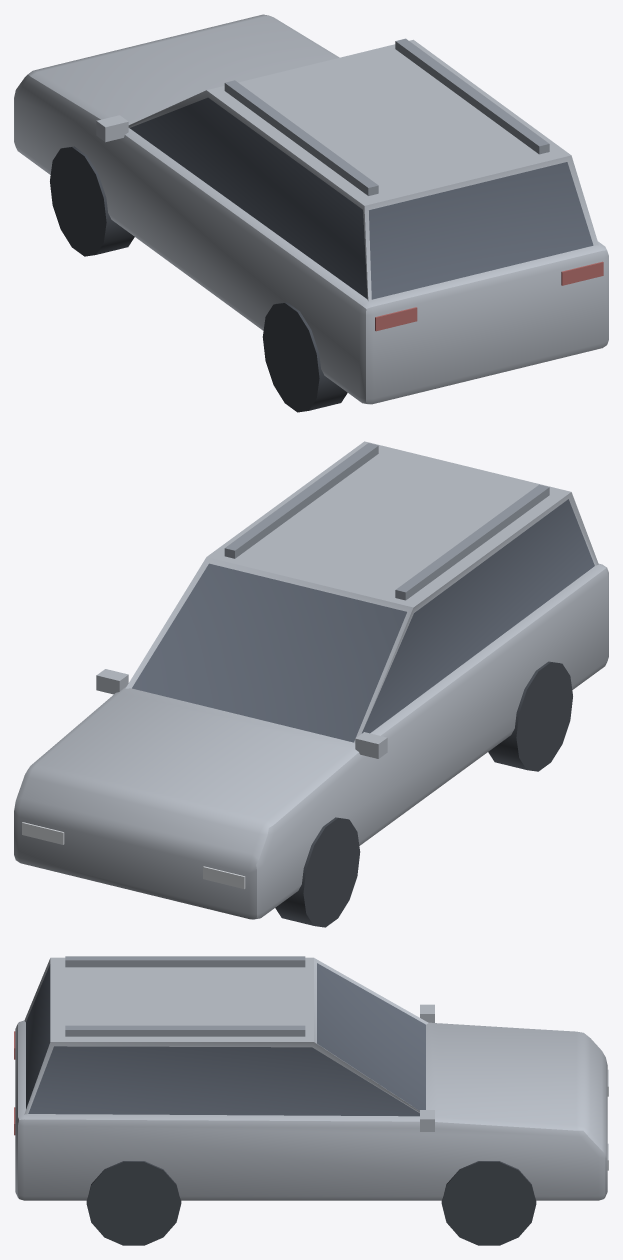
The model's file is traffic_suv.glb.
3 views of the same model, one above another, from view 1: azimuth 30°, elevation 25°; view 2: azimuth 150°, elevation 25°; view 3: azimuth 270°, elevation 25° (orthographic). The views are drawn at different scales.
Parts seen in each view (by area): view 1: Body; view 2: Body; view 3: Body.
Part boxes in pixels (x1=…): Body: x1=14, y1=14, x2=608, y2=412; Body: x1=14, y1=441, x2=608, y2=927; Body: x1=14, y1=956, x2=608, y2=1245.
Size of the model in its own units: 2.18 by 1.78 by 4.77.
